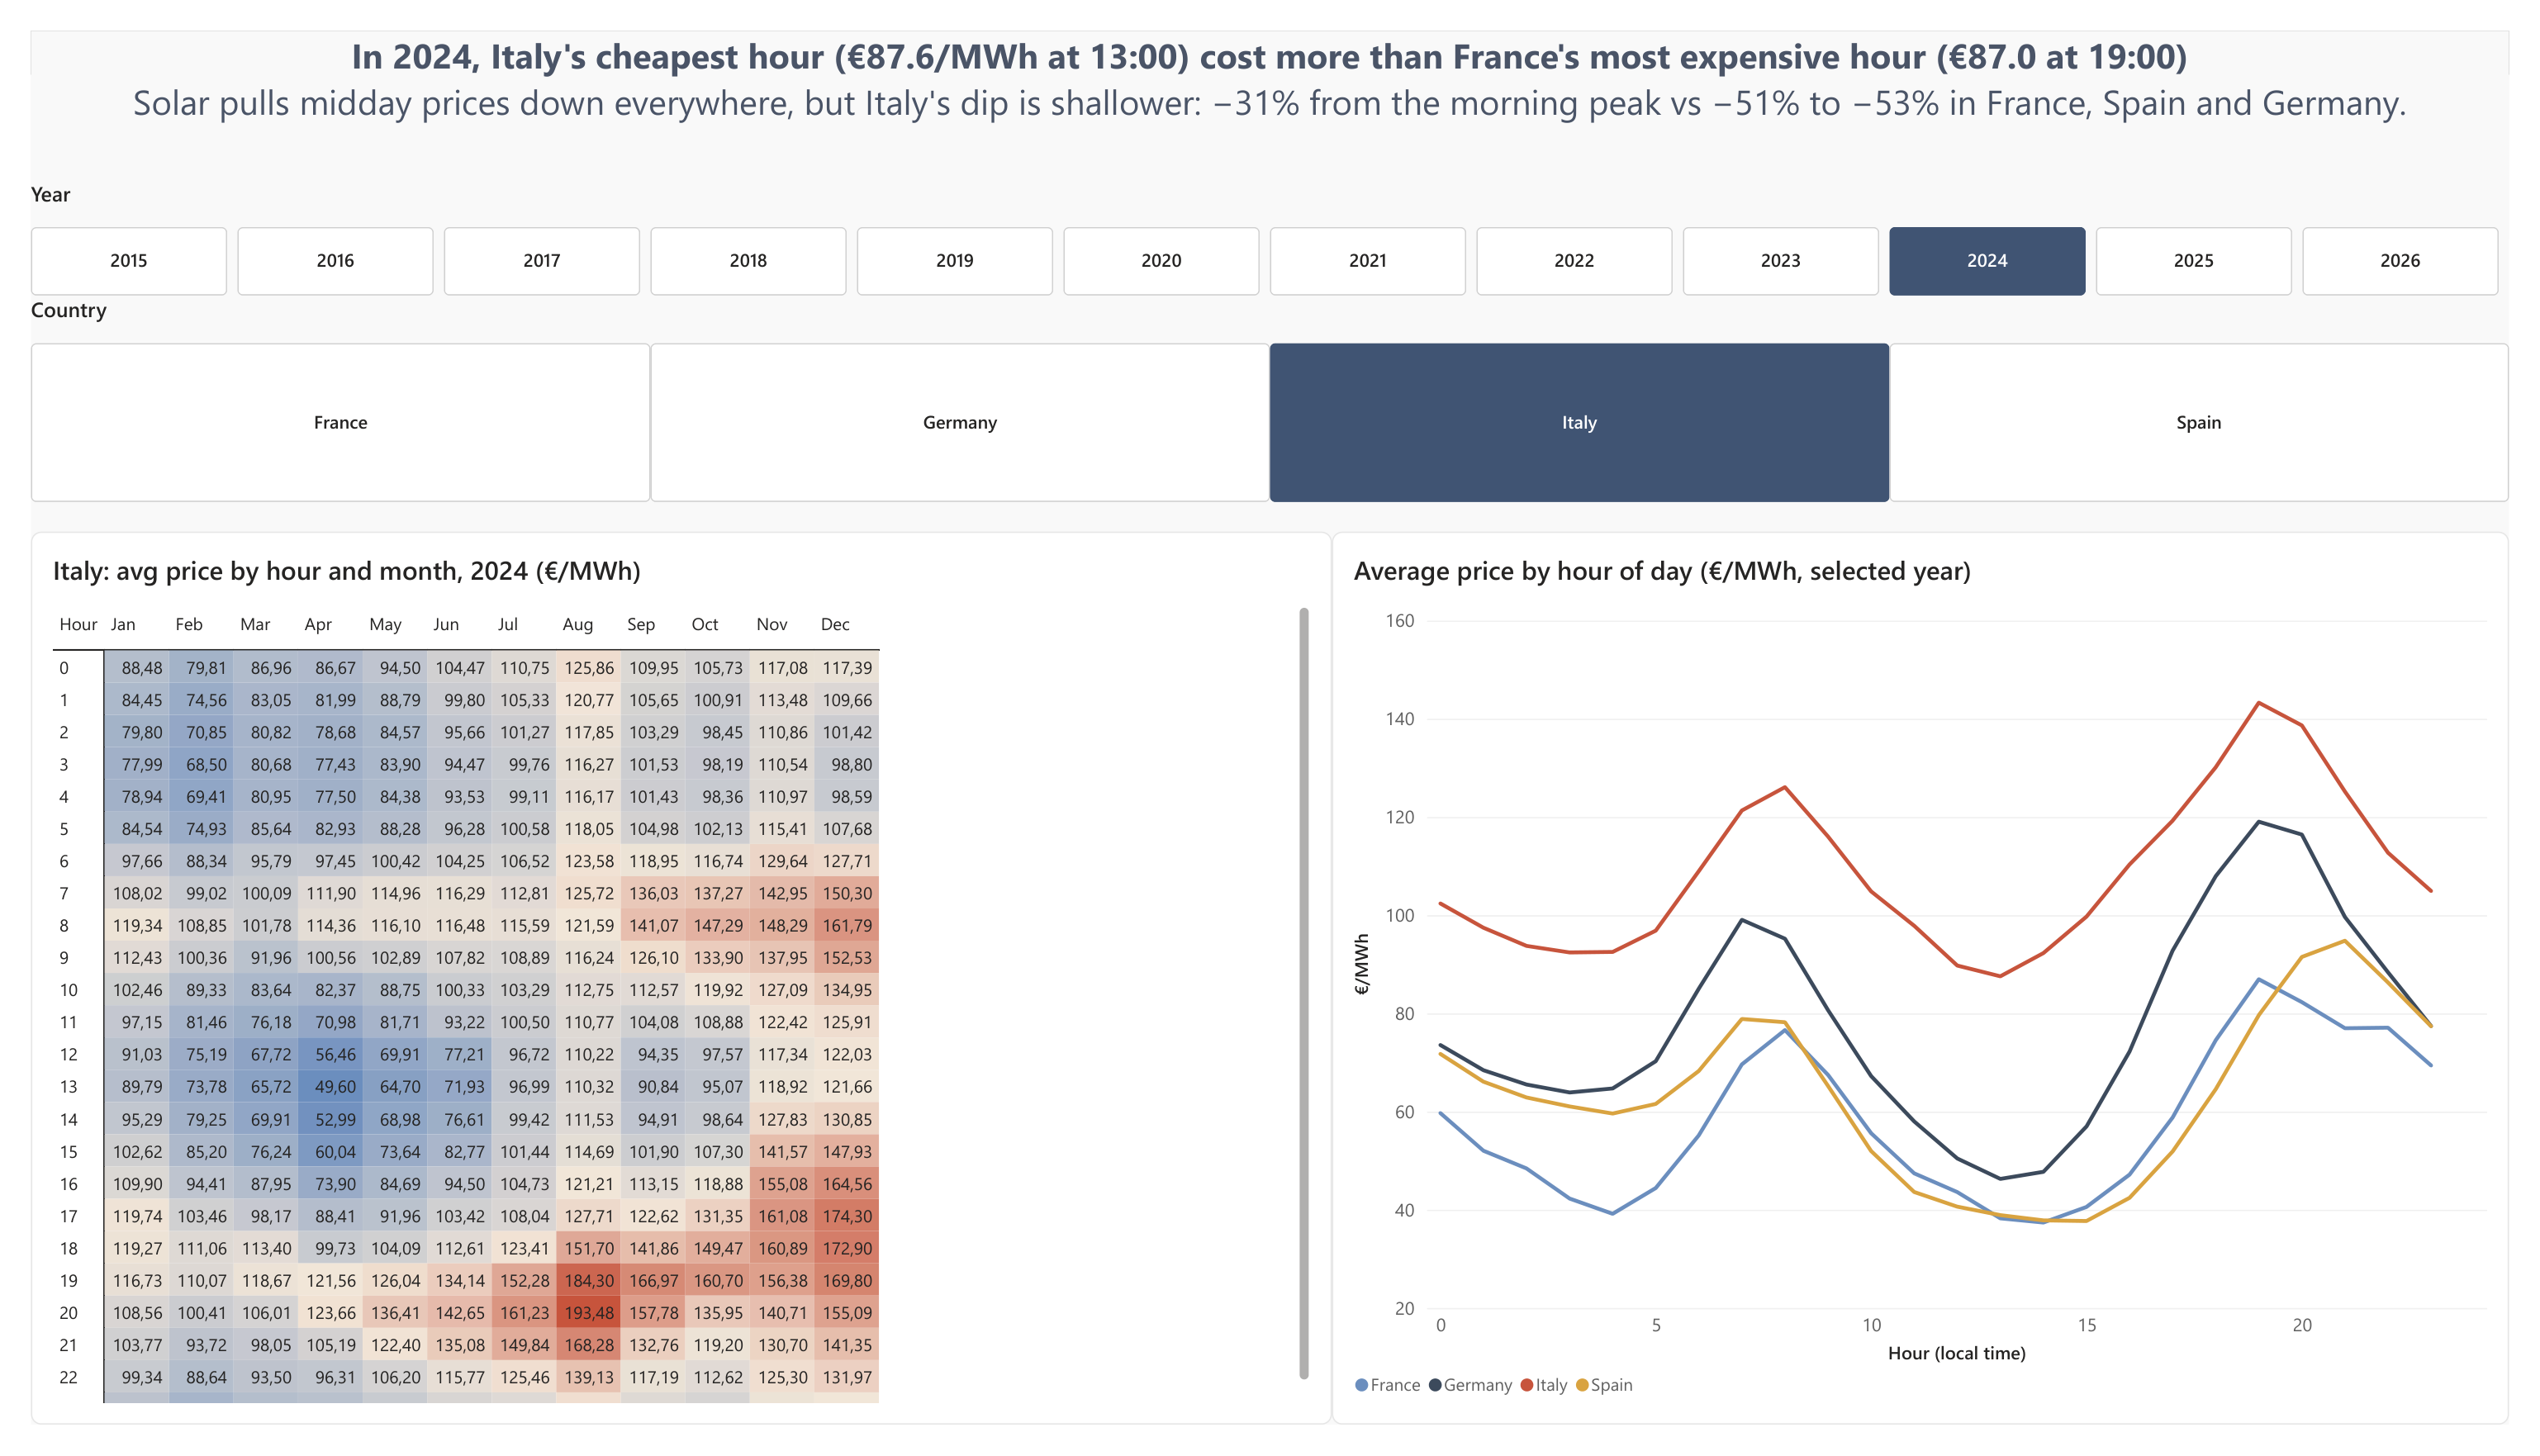

Layout of this report page (visuals, bound fields, positions):
{"tool":"powerbi","page":{"name":"Daily profile","canvas":[1920,1080],"ordinal":1},"visuals":[{"type":"advancedSlicerVisual","fields":{"Values":["dim_date.Year"]},"box":[0,115,1920,90],"z":0},{"type":"advancedSlicerVisual","fields":{"Values":["dim_country.Country"]},"box":[0,205,1920,160],"z":1},{"type":"pivotTable","fields":{"Columns":["dim_date.Month"],"Rows":["fact_prices.Hour"],"Values":["_Measures.Avg Price"]},"box":[0,387.5,1007.5,692.5],"z":2},{"type":"lineChart","title":"Average price by hour of day (€/MWh, selected year)","fields":{"Category":["fact_prices.Hour"],"Series":["dim_country.Country"],"Y":["_Measures.Avg Price"]},"box":[1008,388,912,692],"z":3},{"type":"textbox","box":[100,100,300,300],"z":4},{"type":"textbox","box":[0,0,1920,115],"z":5}]}

Visuals, with their boxes on the page's 1920x1080 design canvas (x1, y1, x2, y2). These are canvas units, not pixel positions in the 2540x1456 screenshot, which may show the page scaled, cropped or inside an application window:
advancedSlicerVisual - dim_date.Year: crop(0, 115, 1920, 205)
advancedSlicerVisual - dim_country.Country: crop(0, 205, 1920, 365)
pivotTable - dim_date.Month x fact_prices.Hour: crop(0, 388, 1008, 1080)
"Average price by hour of day (€/MWh, selected year)" lineChart: crop(1008, 388, 1920, 1080)
textbox: crop(100, 100, 400, 400)
textbox: crop(0, 0, 1920, 115)
